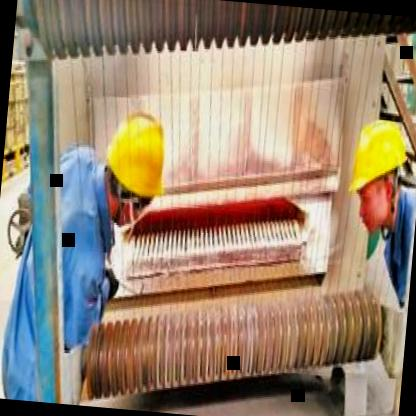helmet: (101, 97, 182, 230), (339, 107, 416, 241)
